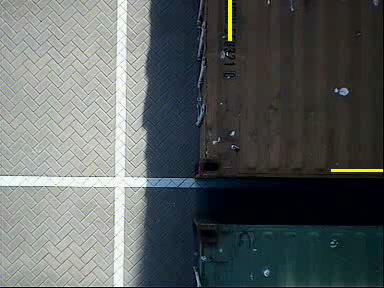groundmarker_2: (146, 166, 197, 199), (144, 16, 195, 48)
